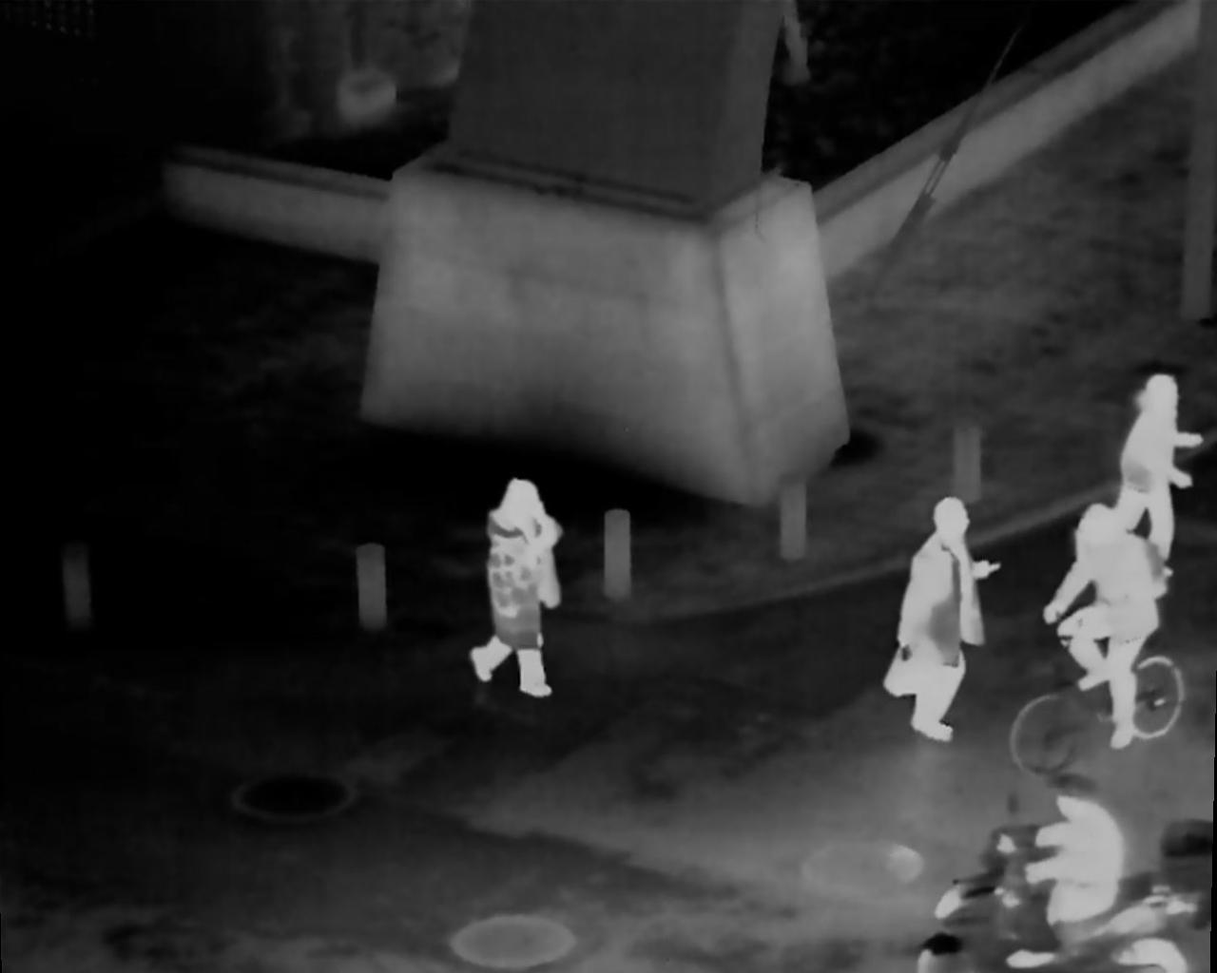person: (885, 491, 999, 744), (1051, 505, 1168, 742), (1110, 373, 1202, 574), (1027, 780, 1126, 956), (488, 479, 561, 694)
